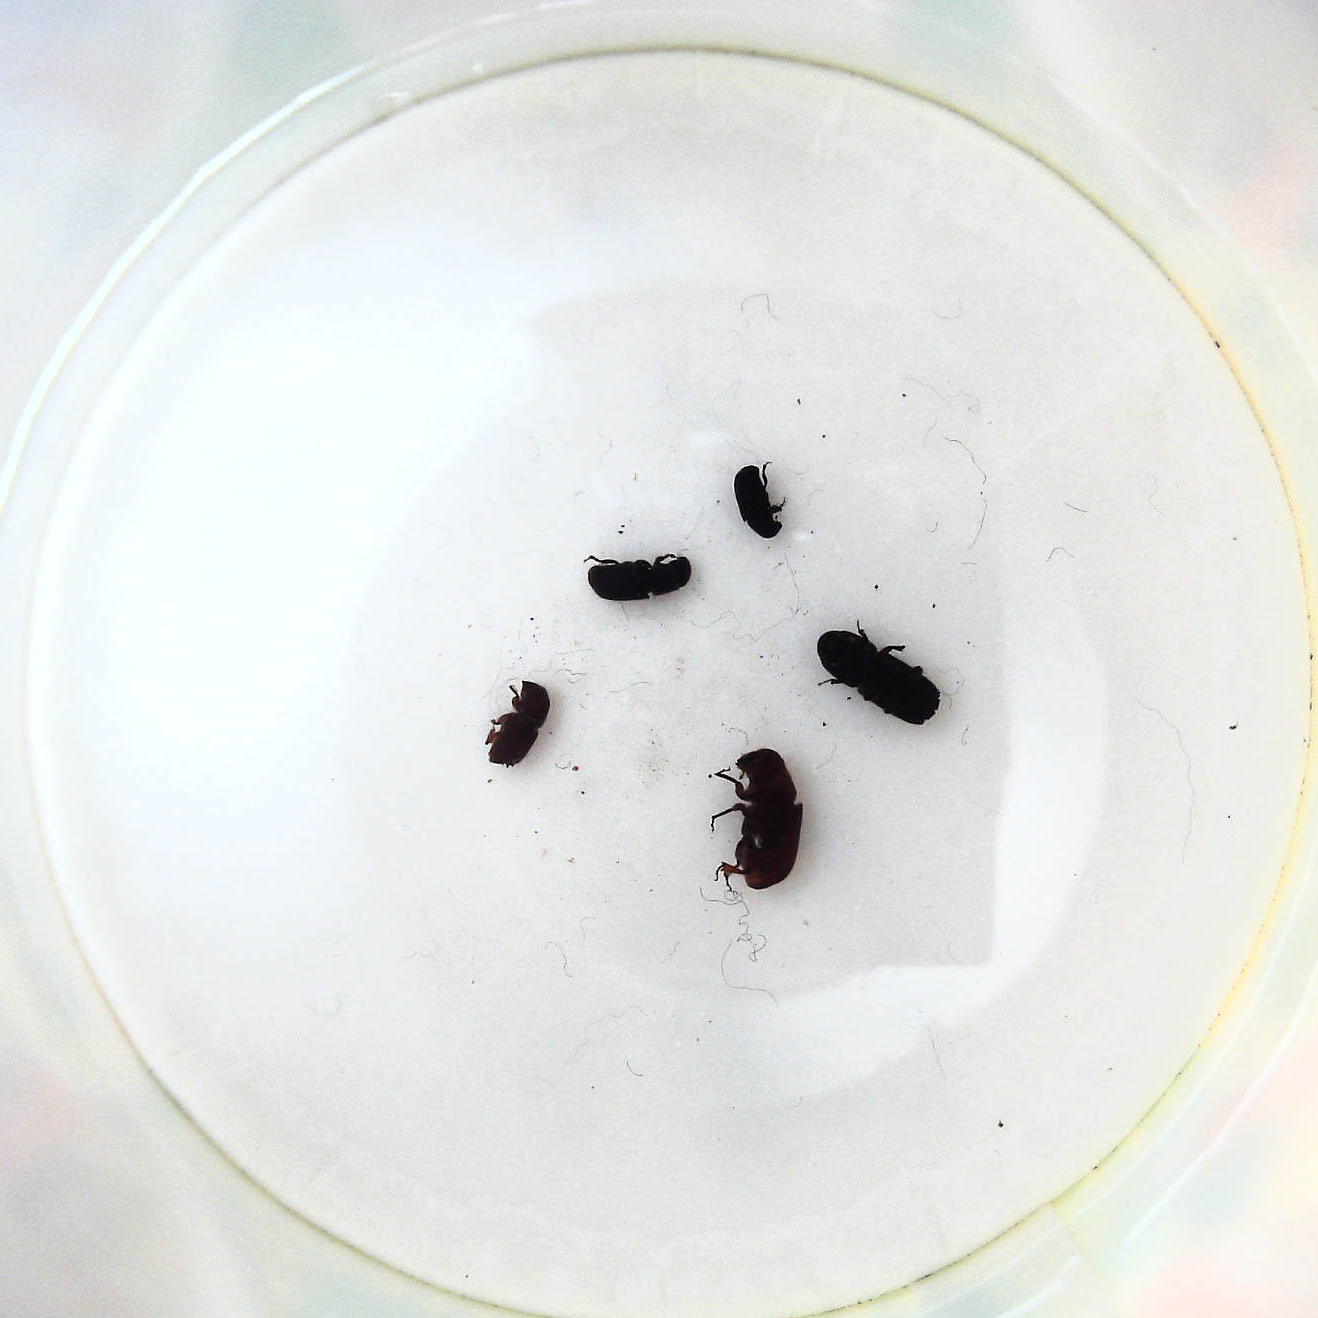Boerner: (812, 622, 946, 731)
Leconte: (715, 746, 812, 892)
armandi: (578, 546, 700, 607)
coleoptera: (731, 456, 795, 546)
linnaeus: (482, 675, 554, 775)
